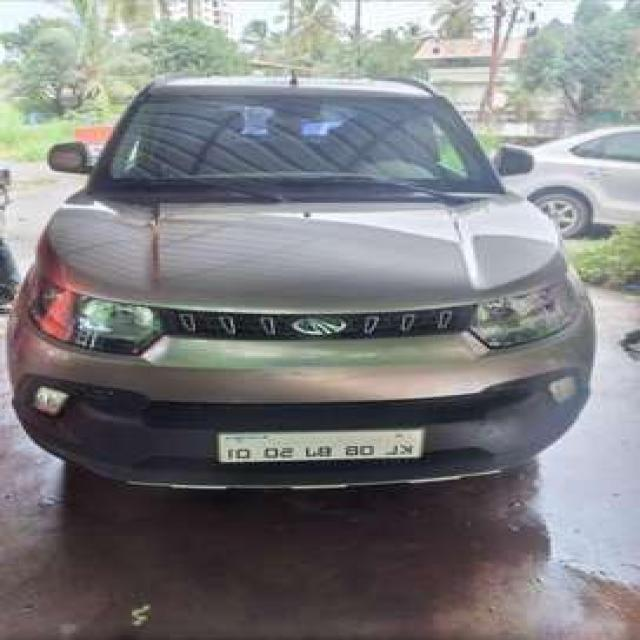license_plate: (210, 422, 430, 471)
